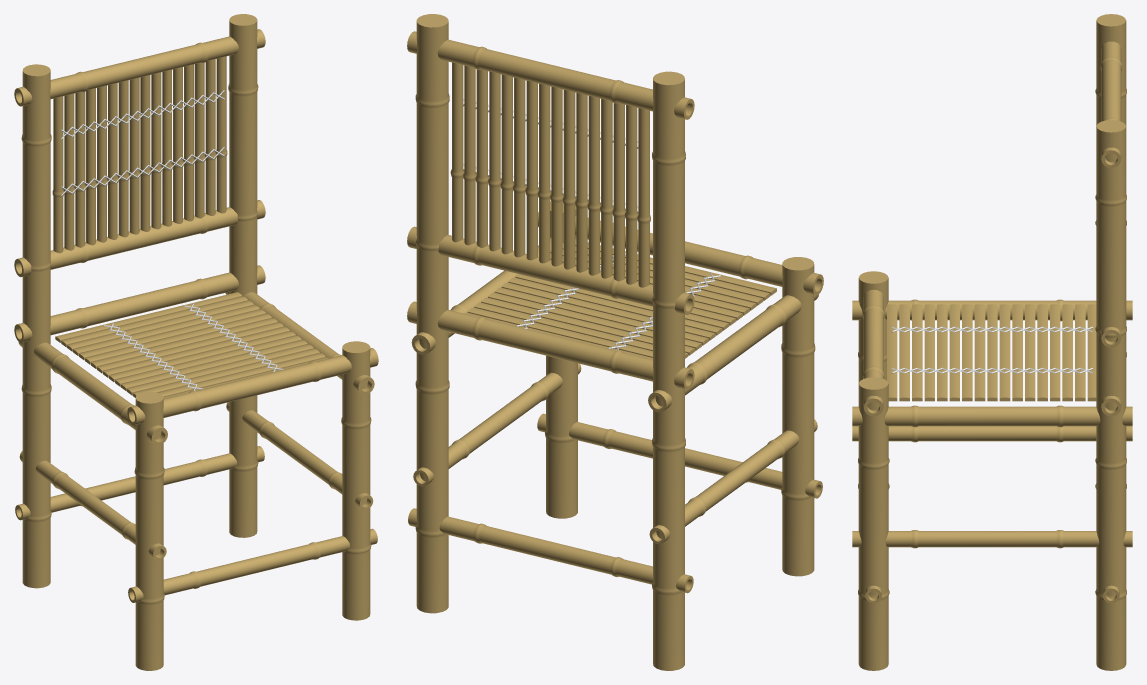
Rendered from ghe_tre.glb.
The picture shows the model from 3 angles, left to right: view 1: azimuth 30°, elevation 25°; view 2: azimuth 150°, elevation 25°; view 3: azimuth 270°, elevation 25°; orthographic projection. The views are drawn at different scales.
Visible parts, largest first — view 1: ghe_tre; view 2: ghe_tre; view 3: ghe_tre.
Part boxes in pixels (x1,y1,x2,y2): ghe_tre: [14, 14, 378, 670]; ghe_tre: [407, 14, 823, 670]; ghe_tre: [852, 14, 1132, 670].
Size of the model in its own units: 0.445 by 0.9 by 0.425.
